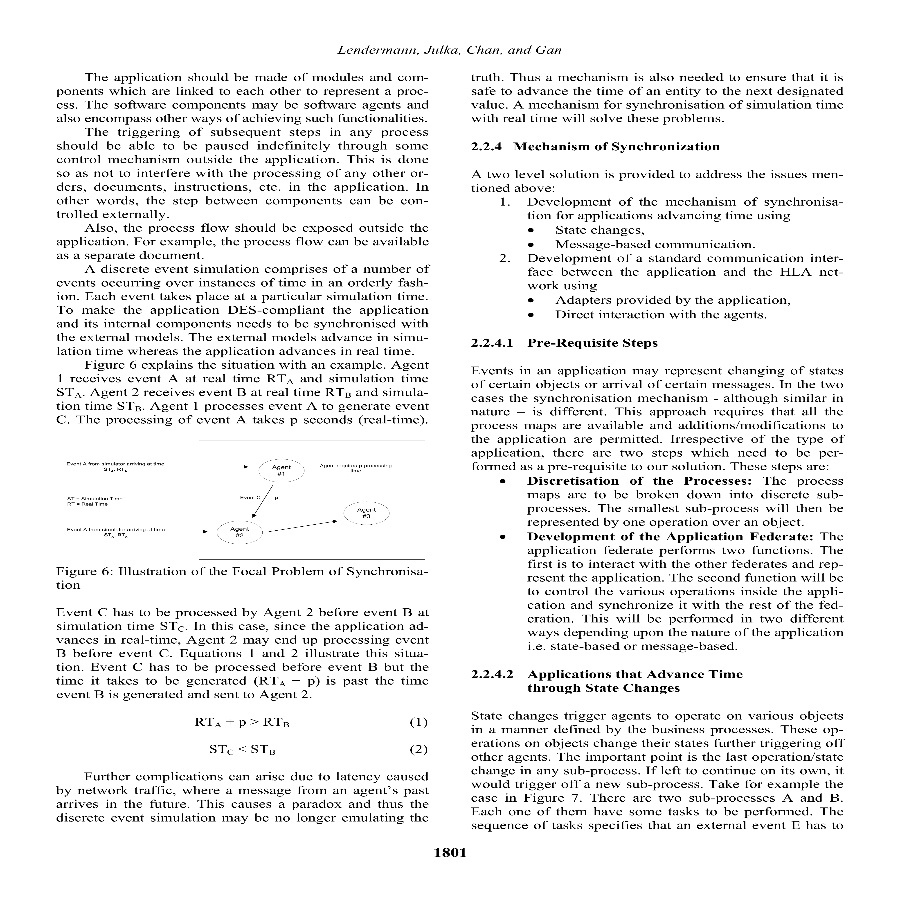eq: (193, 711, 300, 732), (207, 740, 279, 757)
